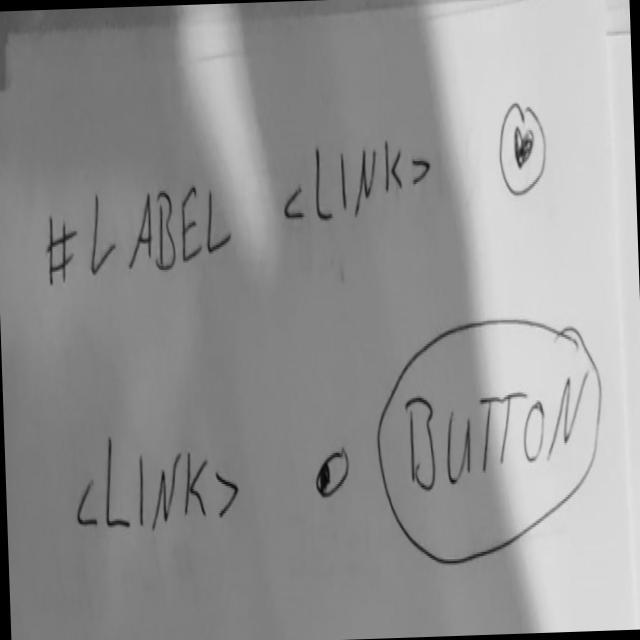button: (371, 311, 608, 572)
icon-button: (496, 98, 550, 202)
label: (39, 178, 236, 294)
link: (72, 428, 242, 540), (280, 130, 433, 228)
toggle: (312, 441, 352, 507)
